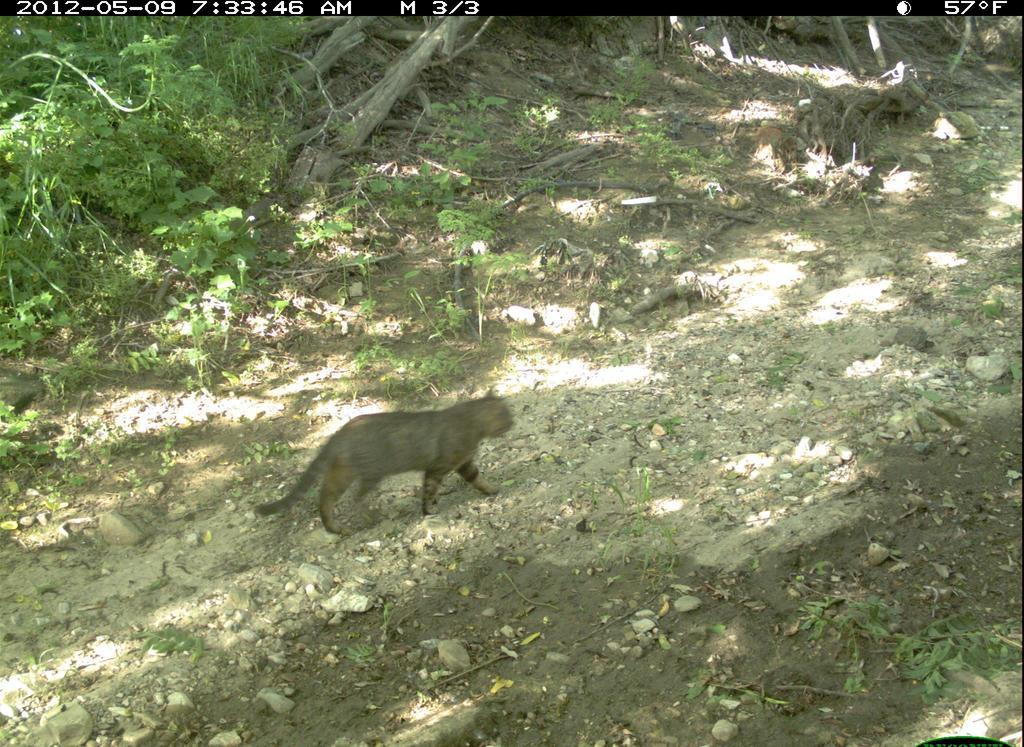cat: (254, 381, 536, 545)
